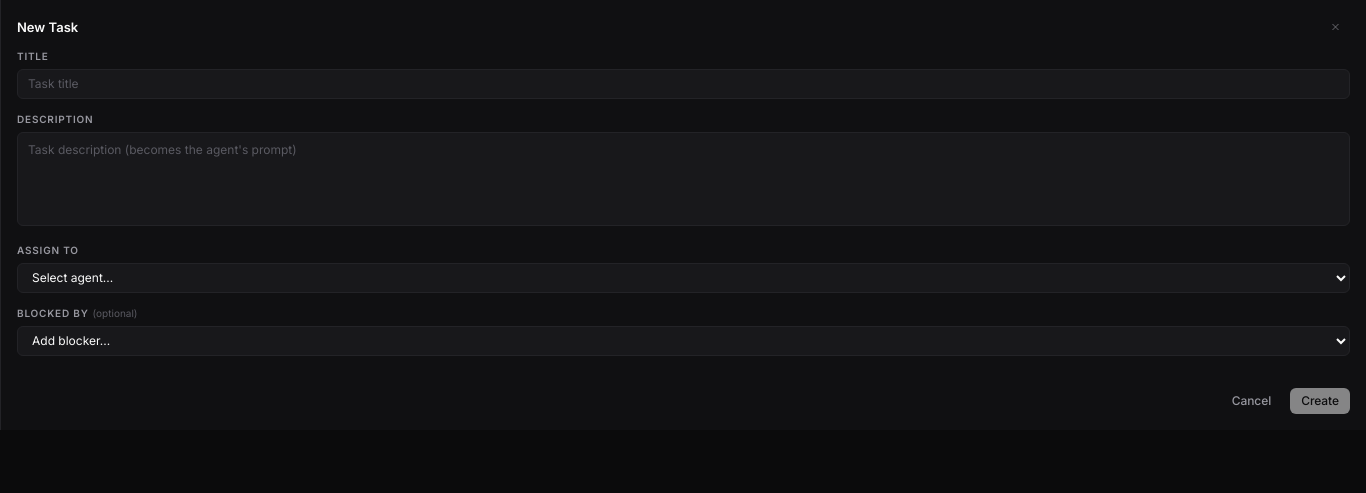
CreateTaskSidebar › when onCreate rejects › surfaces the failure instead of silently doing nothing
Type "  Ship it  " into the field with placeholder "Task title" at (684, 84), box left=28, top=76, right=1339, bottom=92
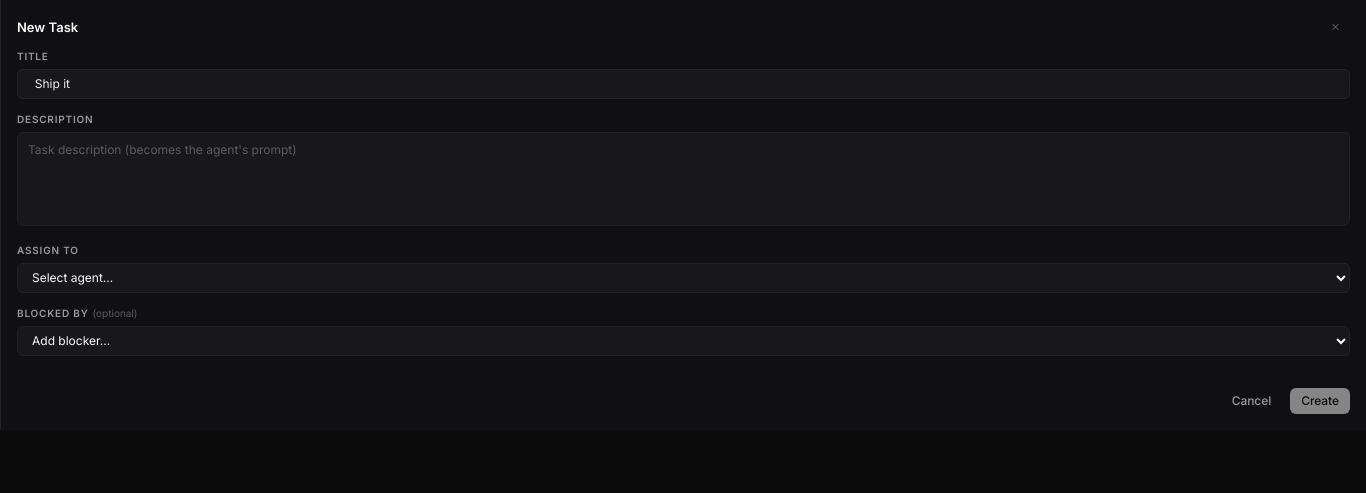
Type "  Do the thing  " into the text box with id "task-desc" at (684, 179), box left=17, top=132, right=1350, bottom=226
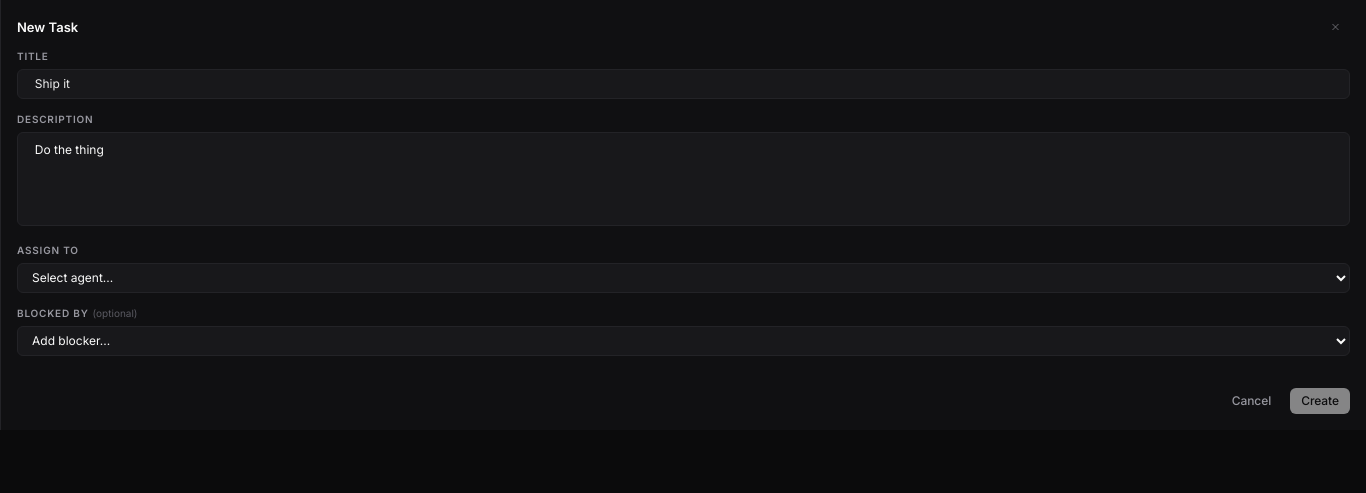
Select "Agent Two" in the dropdown with id "task-agent" at (684, 278), box left=17, top=263, right=1350, bottom=293
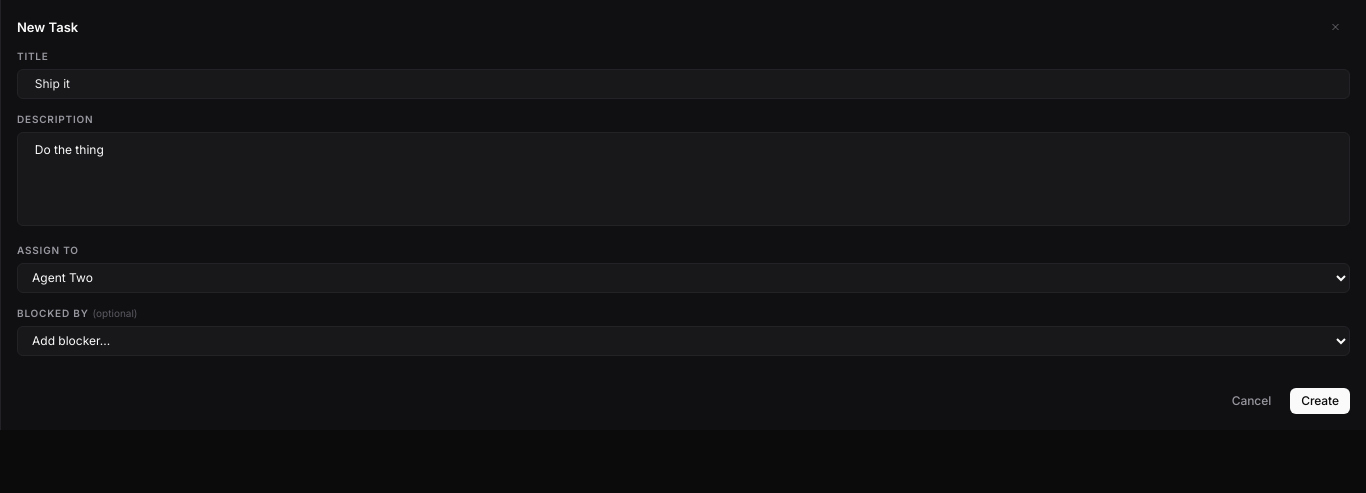
Click the button "Create" at (1320, 401), box left=1290, top=388, right=1350, bottom=414
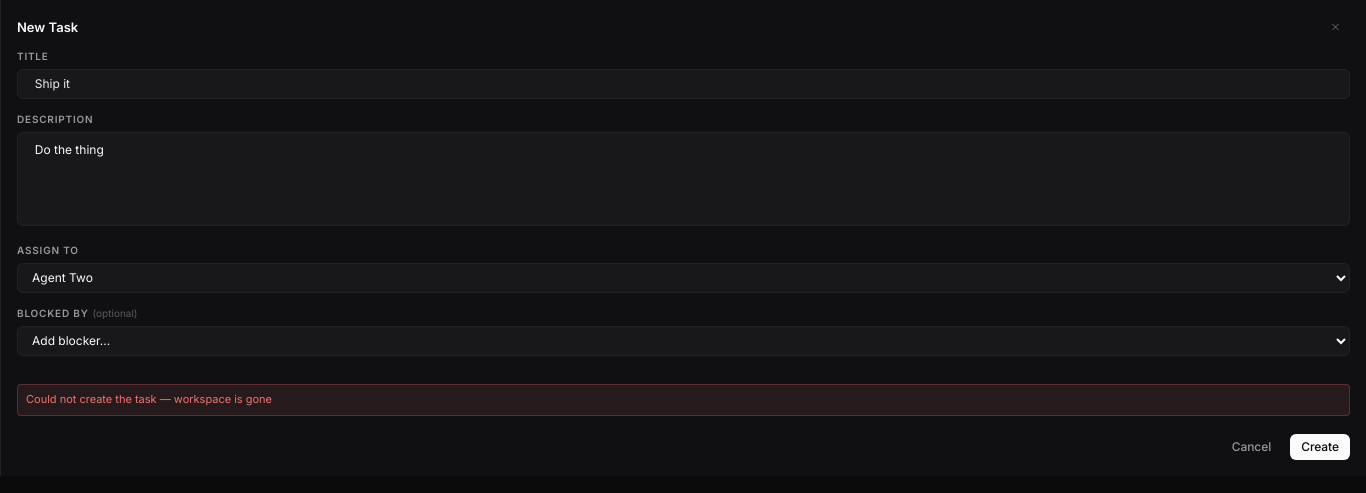
Expected: the message shows "Could not create the task", left=26, top=392, right=272, bottom=406
Expected: the message shows "workspace is gone", left=26, top=392, right=272, bottom=406
